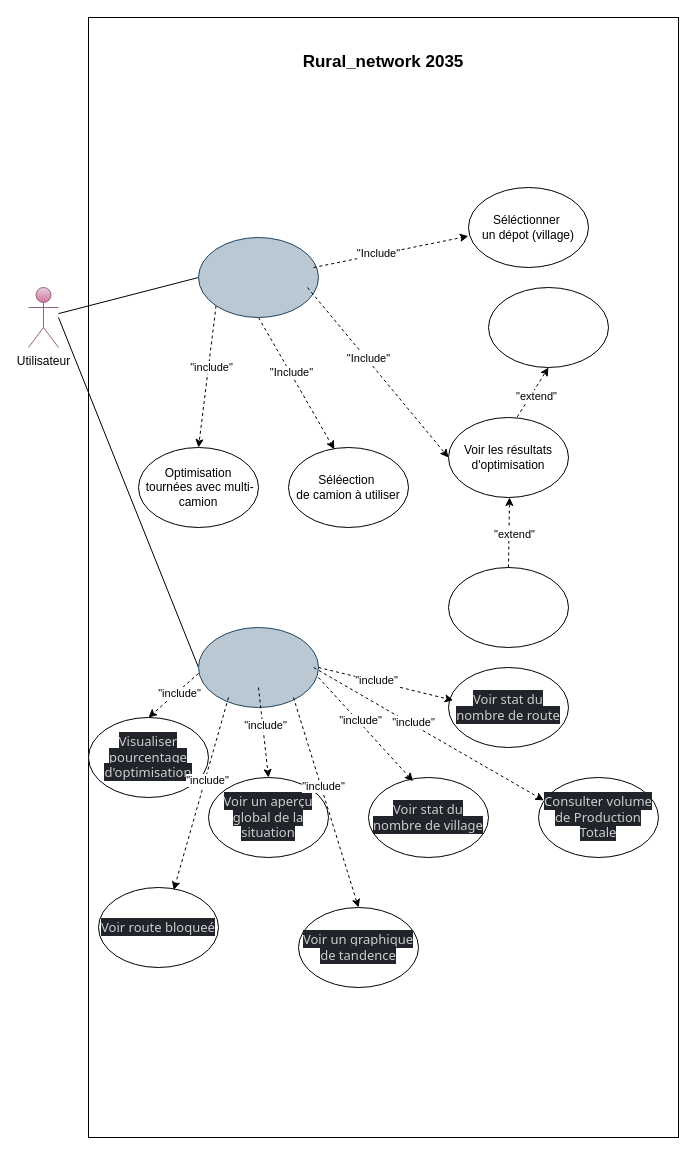
The diagram is 696 pixels wide and 1155 high, and some of its shapes have lost their labels. Each missing label, with the centre of its shape:
"Accès à Dashboard" belongs at pixel 258 667.
"Optimisation de tournées" belongs at pixel 258 277.
"Visualiser pourcentage réalisé" belongs at pixel 548 327.
"Voir les étapes de tournées" belongs at pixel 508 607.
